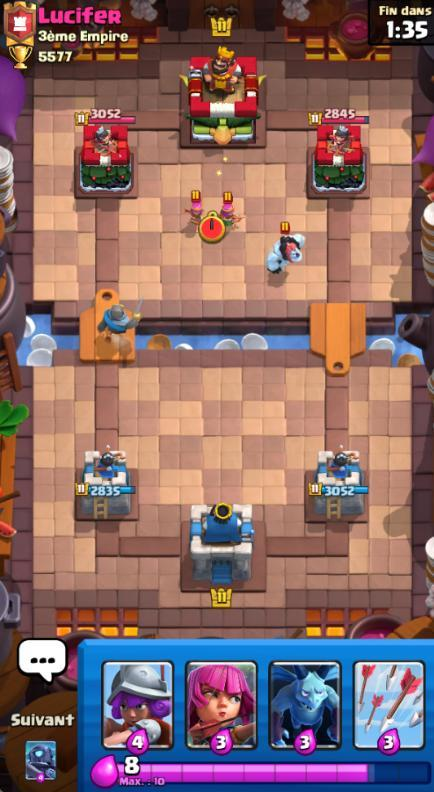enemy_archers: (215, 190, 245, 229), (182, 190, 207, 229)
enemy_ice_golem: (257, 219, 315, 287)
player_knight: (92, 294, 147, 344)
